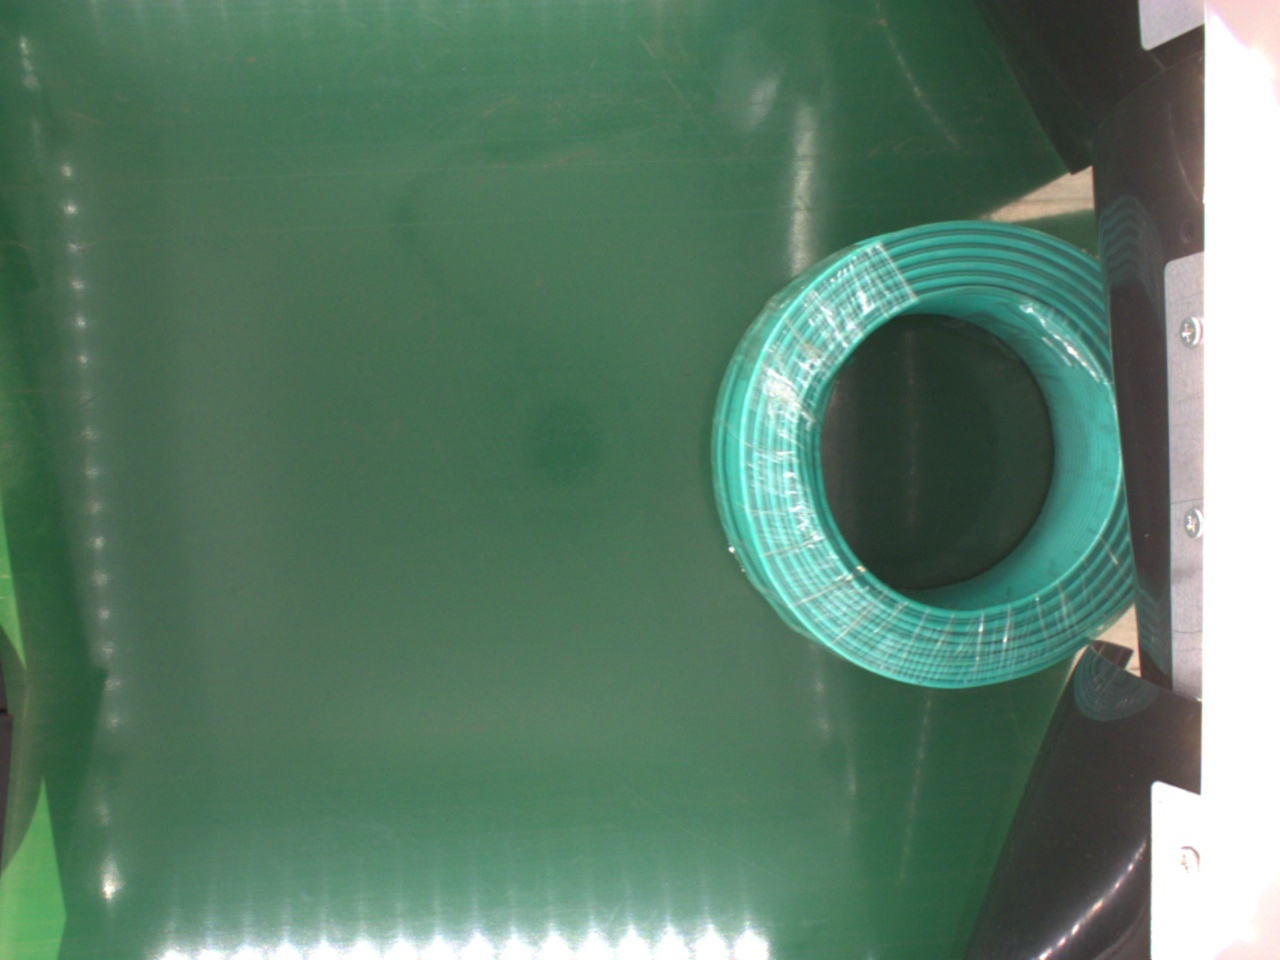green: (715, 220, 1146, 691)
